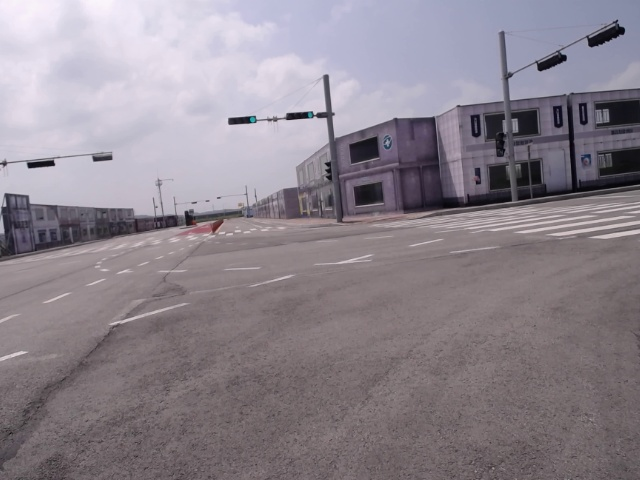straight_green_4: (285, 111, 315, 120), (229, 116, 257, 124)
